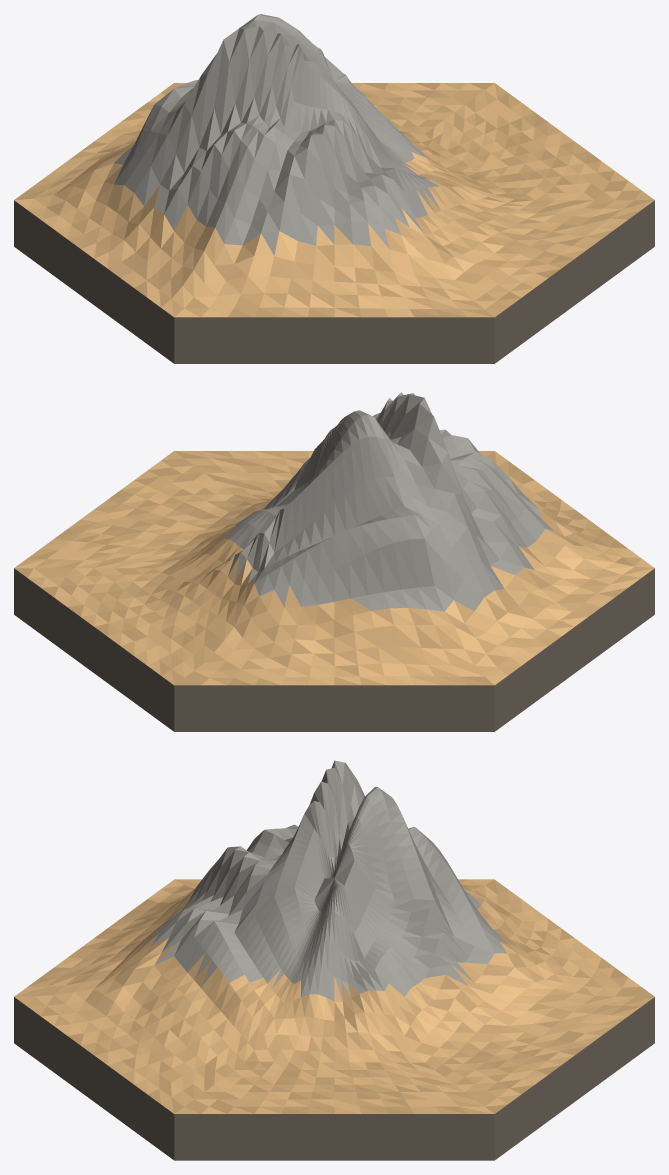
File: TERRAIN_DESERT_MOUNTAIN_v01.fbx
3 renders of one model, top to bottom at view 1: azimuth 30°, elevation 25°; view 2: azimuth 150°, elevation 25°; view 3: azimuth 270°, elevation 25°, orthographic.
Visible parts, largest first — view 1: TERRAIN_DESERT_MOUNTAIN_v01; view 2: TERRAIN_DESERT_MOUNTAIN_v01; view 3: TERRAIN_DESERT_MOUNTAIN_v01.
Part boxes in pixels (x1,y1,x2,y2): TERRAIN_DESERT_MOUNTAIN_v01: [14, 14, 654, 363]; TERRAIN_DESERT_MOUNTAIN_v01: [14, 392, 654, 731]; TERRAIN_DESERT_MOUNTAIN_v01: [14, 760, 654, 1160].
Size of the model in its own units: 173 by 82.25 by 200.
